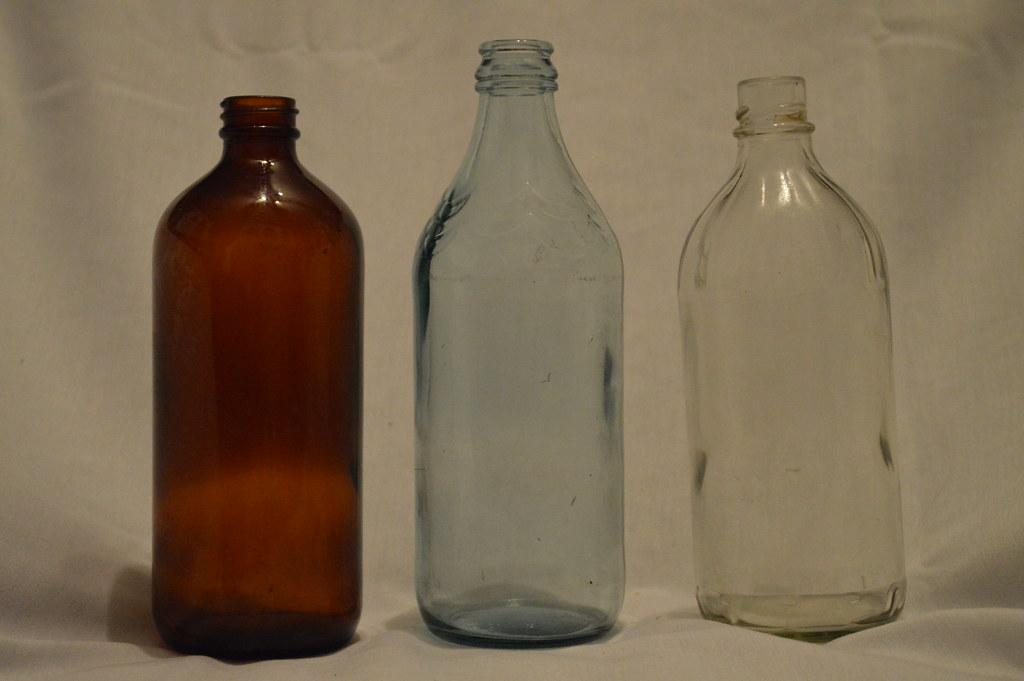bottle: (412, 38, 627, 649), (677, 75, 908, 642), (151, 94, 365, 661)
